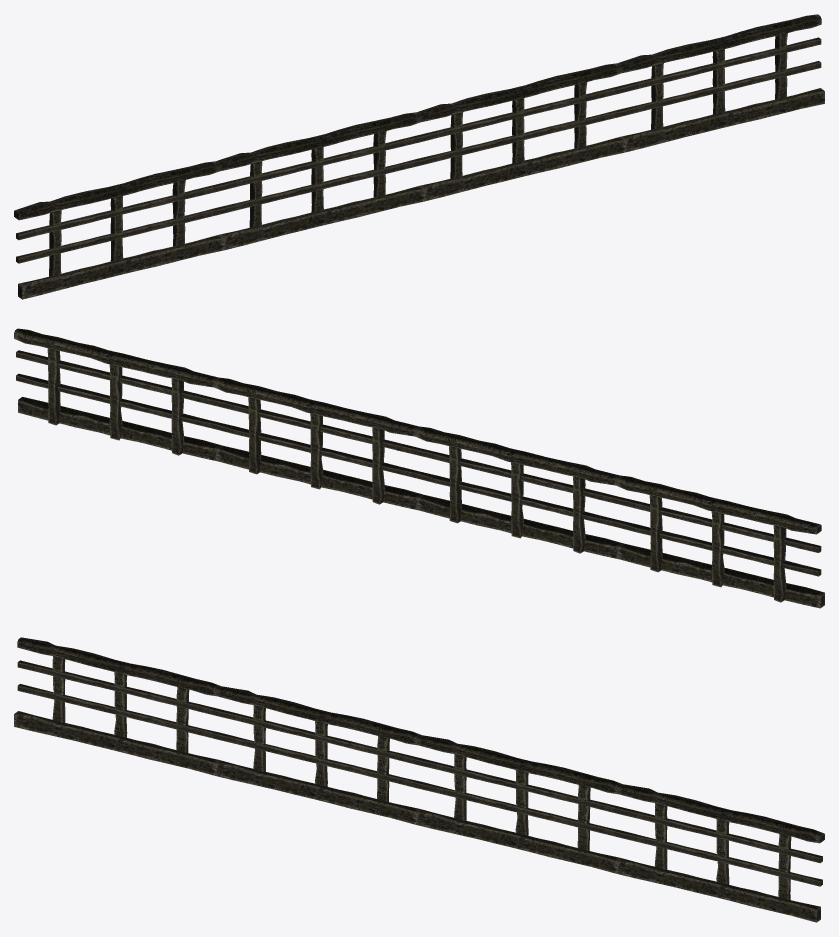
Rendered from collapse_railings.DAE.
The picture shows the model from 3 angles, top to bottom: view 1: azimuth 30°, elevation 25°; view 2: azimuth 150°, elevation 25°; view 3: azimuth 330°, elevation 25°; orthographic projection.
Parts seen in each view (by area): view 1: Box012; view 2: Box012; view 3: Box012.
Part boxes in pixels (box(x1,y1,x2,y2)): Box012: box(14, 14, 824, 299); Box012: box(14, 328, 824, 608); Box012: box(14, 637, 824, 922).
Bounding box in the file's own units: 14.01 × 1.46 × 0.3193.
